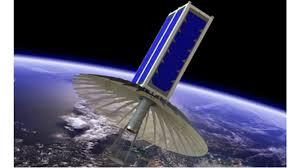antenna: (72, 73, 210, 158)
body: (130, 0, 216, 101)
solar: (147, 6, 210, 98), (131, 5, 186, 85)
